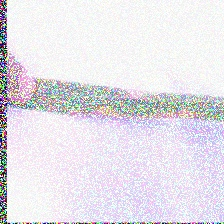Leaf_Blast: (55, 88, 213, 131)
